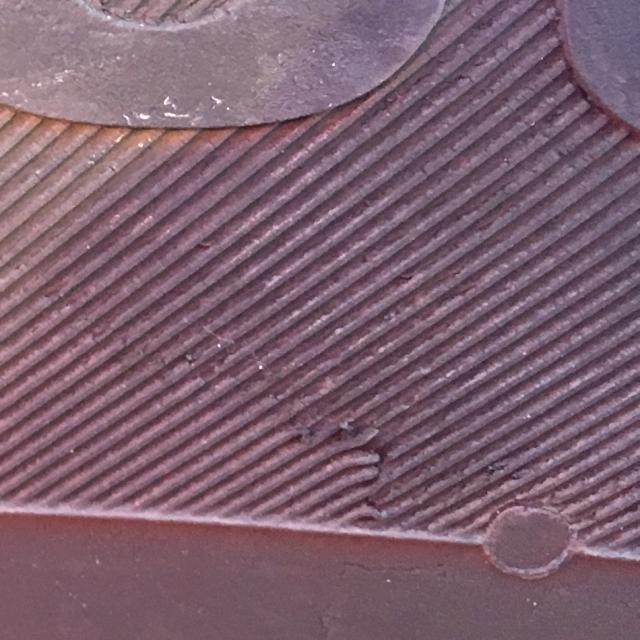Cracks: (320, 403, 410, 528)
